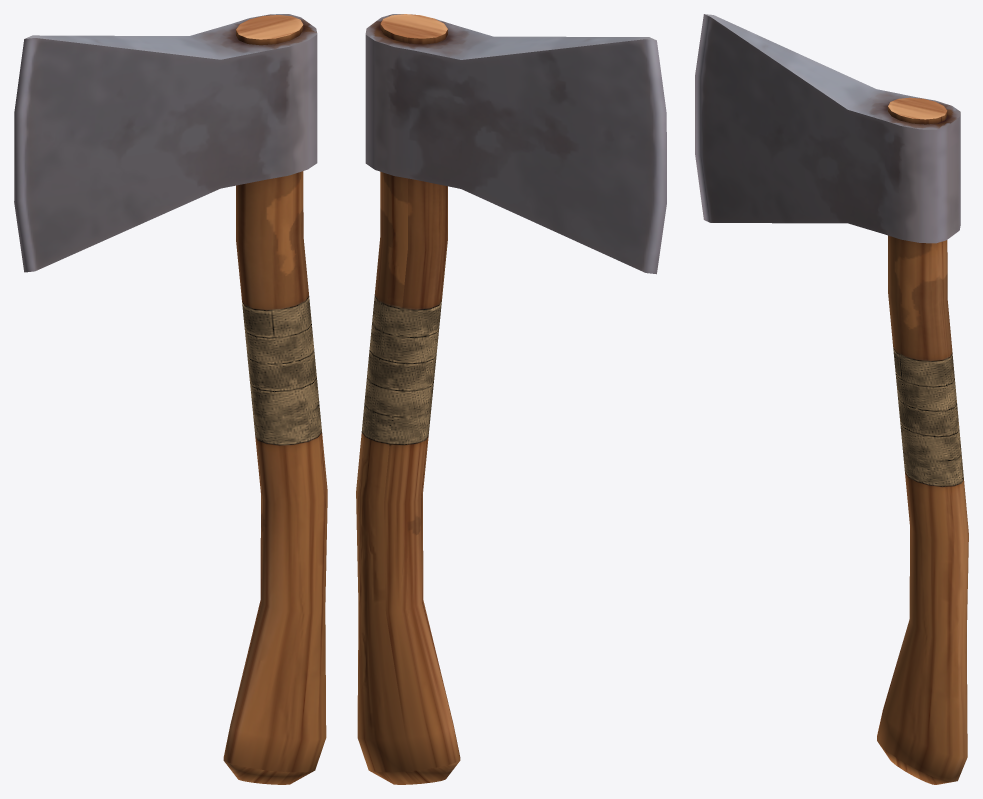
File: Tools01_5.FBX
3 renders of one model, left to right at view 1: azimuth 30°, elevation 25°; view 2: azimuth 150°, elevation 25°; view 3: azimuth 330°, elevation 25°, orthographic. The views are drawn at different scales.
Visible parts, largest first — view 1: Tools01_5; view 2: Tools01_5; view 3: Tools01_5.
Part boxes in pixels (x1,y1,x2,y2): Tools01_5: (14,14,327,784); Tools01_5: (356,14,666,784); Tools01_5: (695,14,968,784).
Size of what is drawn, in the model's own units: 0.3028 by 0.7529 by 0.0665.
